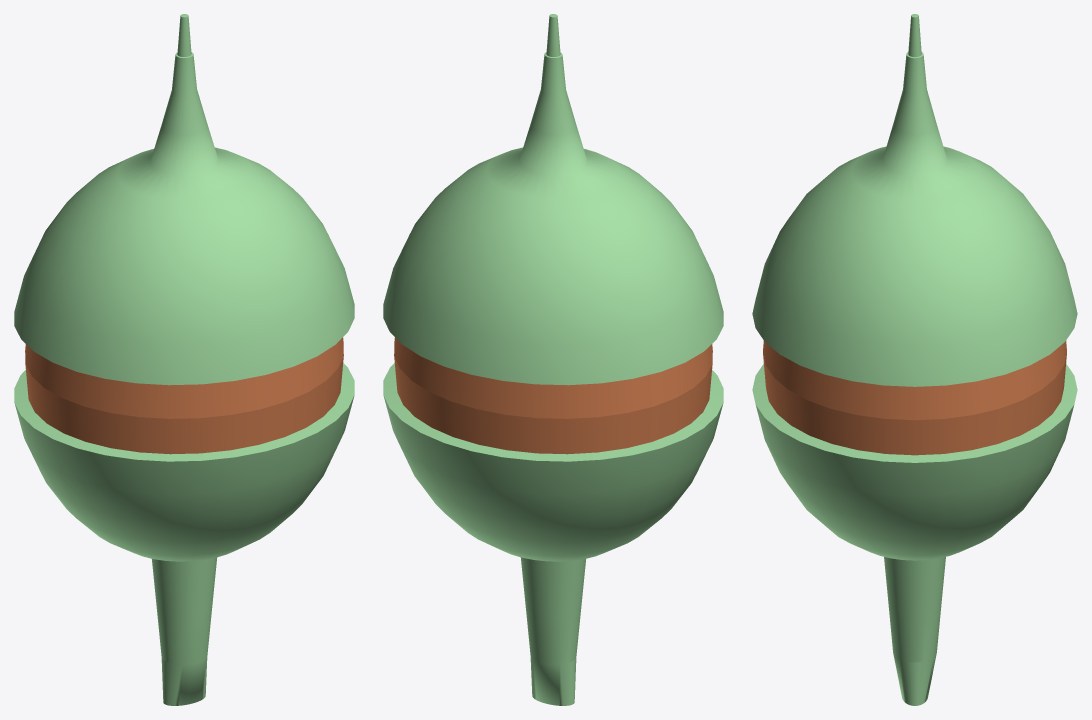
Rendered from float.fbx.
3 renders of one model, left to right at view 1: azimuth 30°, elevation 25°; view 2: azimuth 150°, elevation 25°; view 3: azimuth 270°, elevation 25°, orthographic.
Parts seen in each view (by area): view 1: Cylinder; view 2: Cylinder; view 3: Cylinder.
Part boxes in pixels (box(x1,y1,x2,y2)): Cylinder: box(14, 14, 354, 705); Cylinder: box(383, 14, 723, 705); Cylinder: box(752, 14, 1077, 705).
Size of the model in its own units: 68.62 by 150 by 64.58.
